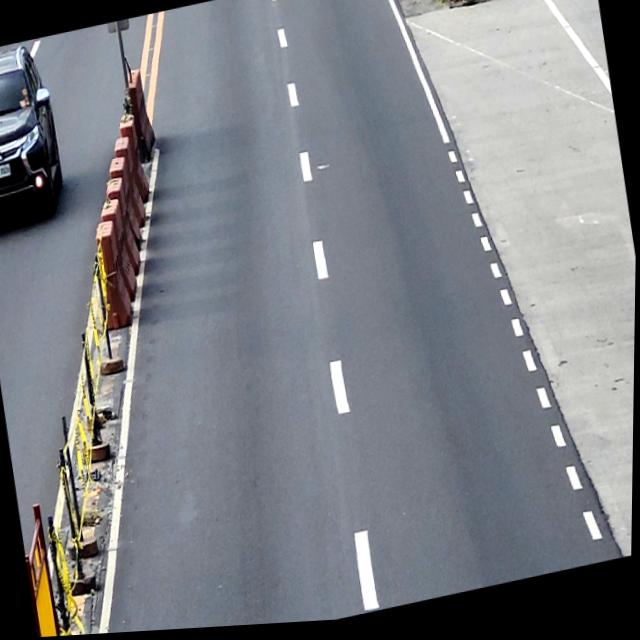Car: (0, 39, 73, 236)
License-Plate: (0, 163, 12, 181)
